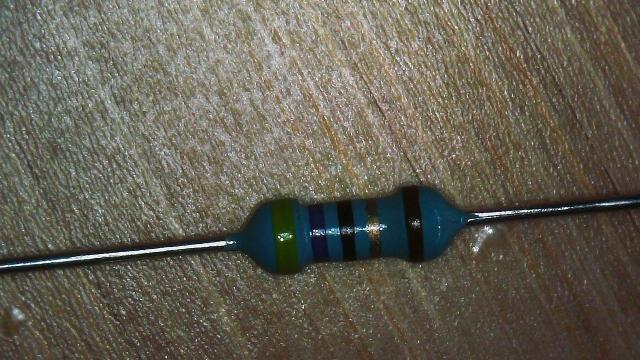black: (337, 200, 356, 261)
brown: (402, 187, 424, 262)
gold: (364, 198, 381, 257)
resistor: (226, 174, 480, 279)
violet: (309, 204, 328, 262)
yellow: (270, 198, 298, 274)
